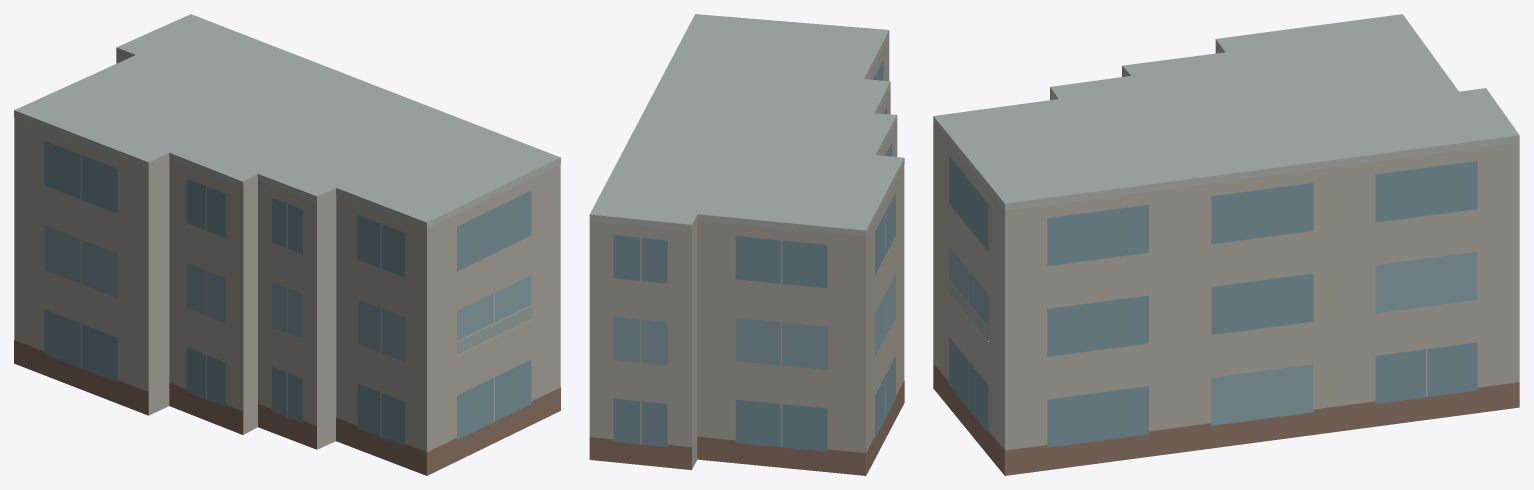
Rendered from survey-upis-32780373.glb.
3 renders of one model, left to right at view 1: azimuth 30°, elevation 25°; view 2: azimuth 150°, elevation 25°; view 3: azimuth 270°, elevation 25°, orthographic. The views are drawn at different scales.
Visible parts, largest first — view 1: survey-upis-32780373.tmp; view 2: survey-upis-32780373.tmp; view 3: survey-upis-32780373.tmp.
Part boxes in pixels (x1,y1,x2,y2): survey-upis-32780373.tmp: (14,14,560,475); survey-upis-32780373.tmp: (589,14,904,475); survey-upis-32780373.tmp: (933,14,1519,475).
Size of the model in its own units: 13.68 by 9.15 by 17.87.
